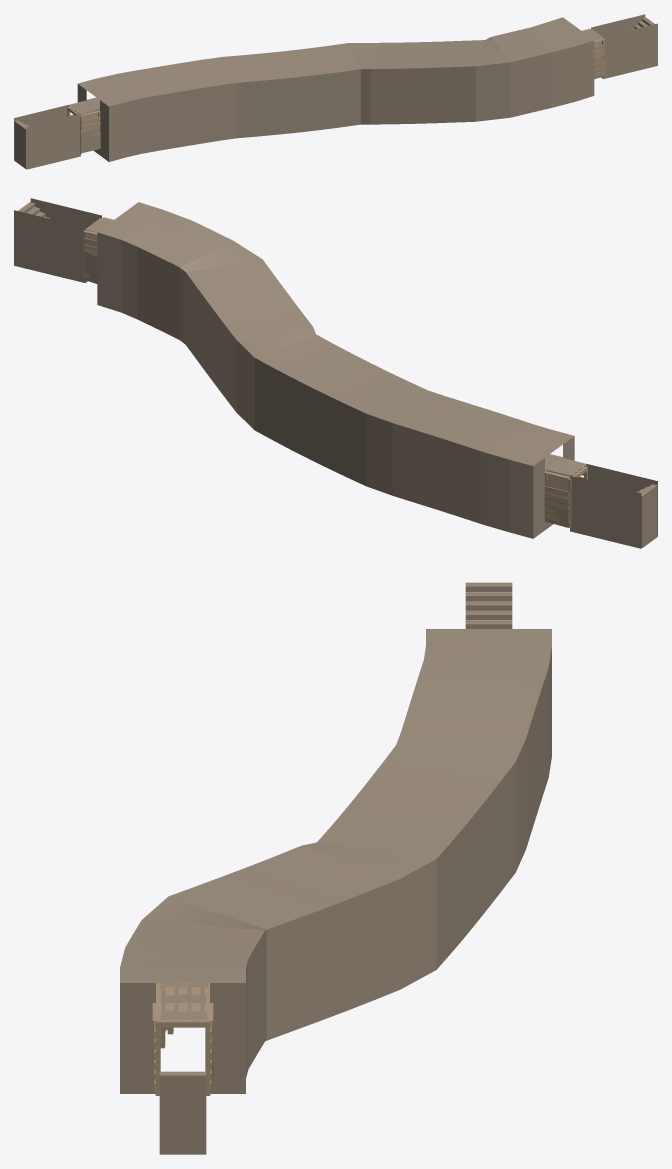
Rendered from tunnel_b2_b3.glb.
The picture shows the model from 3 angles, top to bottom: view 1: azimuth 30°, elevation 25°; view 2: azimuth 150°, elevation 25°; view 3: azimuth 270°, elevation 25°; orthographic projection. The views are drawn at different scales.
Visible parts, largest first — view 1: tunnel_b2_b3__earth, tunnel_b2_b3__timber; view 2: tunnel_b2_b3__earth, tunnel_b2_b3__timber; view 3: tunnel_b2_b3__earth, tunnel_b2_b3__timber.
Boxes of the visible parts, x1=… form: tunnel_b2_b3__earth: x1=14, y1=14, x2=657, y2=169; tunnel_b2_b3__timber: x1=14, y1=17, x2=654, y2=153; tunnel_b2_b3__earth: x1=14, y1=198, x2=657, y2=548; tunnel_b2_b3__timber: x1=18, y1=202, x2=656, y2=527; tunnel_b2_b3__earth: x1=120, y1=583, x2=551, y2=1154; tunnel_b2_b3__timber: x1=152, y1=582, x2=512, y2=1095.
Bounding box in the file's own units: 35.6 × 5.26 × 12.
